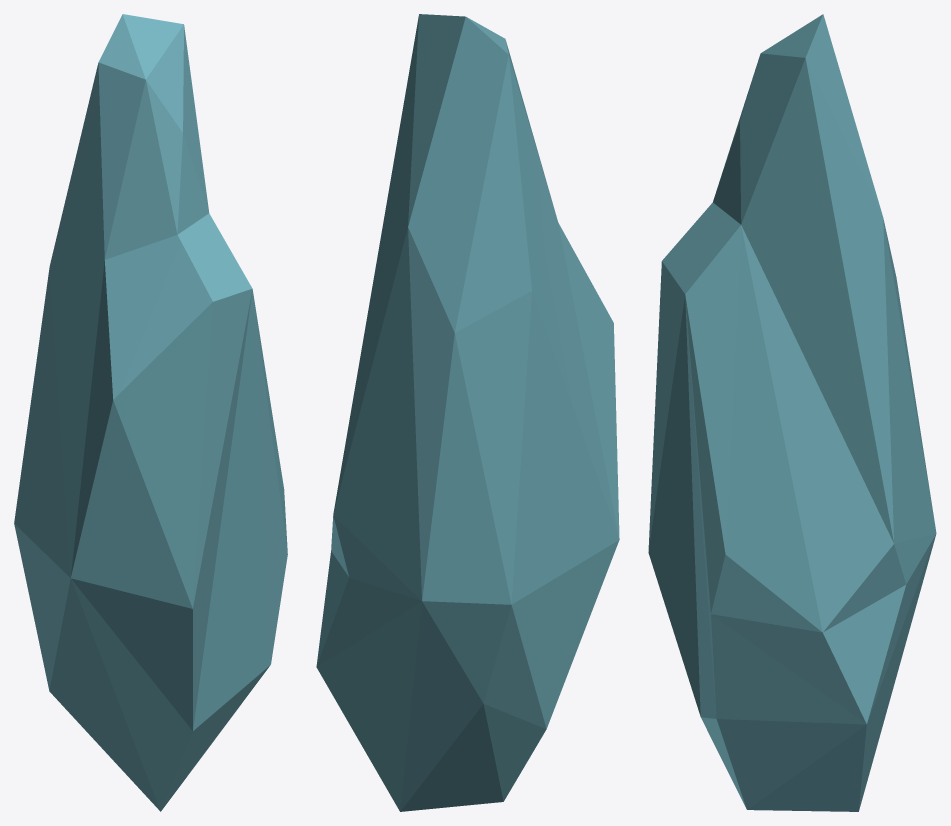
Rendered from Crystal_01.glb.
The picture shows the model from 3 angles, left to right: view 1: azimuth 30°, elevation 25°; view 2: azimuth 150°, elevation 25°; view 3: azimuth 270°, elevation 25°; orthographic projection. The views are drawn at different scales.
Visible parts, largest first — view 1: Crystal_01; view 2: Crystal_01; view 3: Crystal_01.
Boxes of the visible parts, x1,y1,x2,y2 form: Crystal_01: [14, 14, 287, 811]; Crystal_01: [316, 14, 619, 811]; Crystal_01: [648, 14, 936, 811].
Bounding box in the file's own units: 0.6796 × 2.21 × 0.7254.
Materials: 1 (1 with a texture image).
